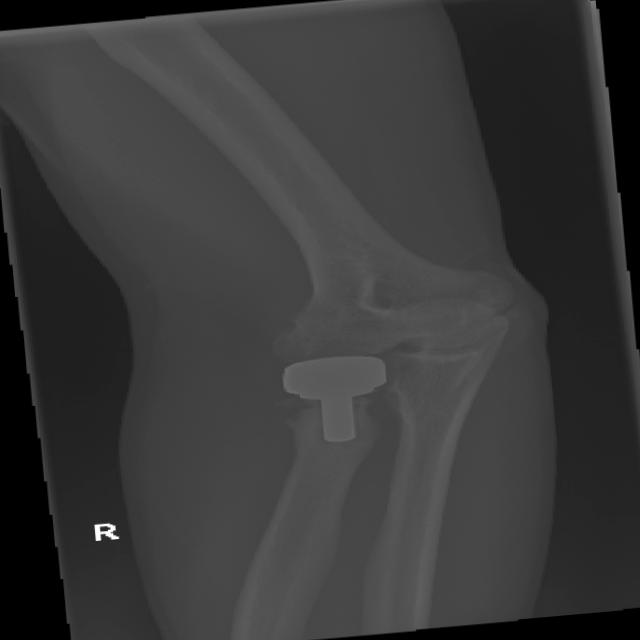elbow positive: (257, 350, 406, 459)
